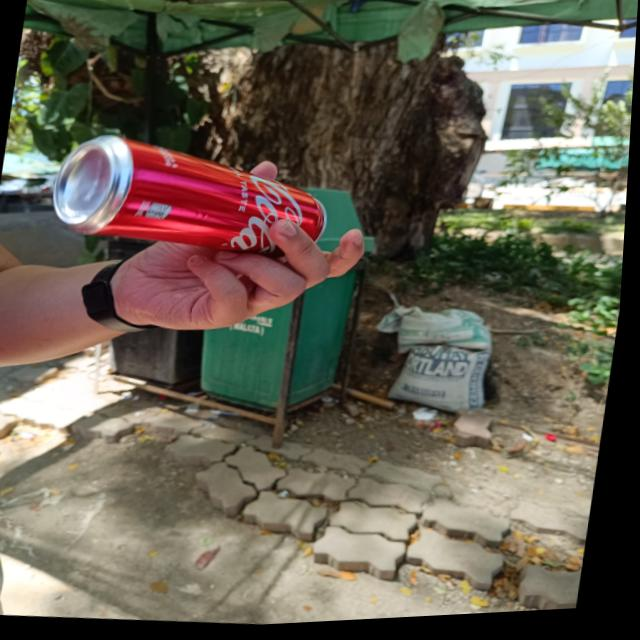coke: (49, 120, 343, 271)
